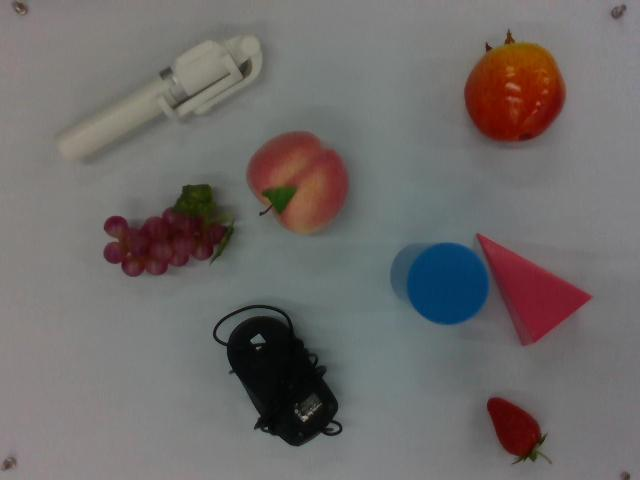cylinder: (390, 238, 494, 327)
grape: (100, 179, 233, 281)
mouse: (209, 301, 345, 448)
peach: (246, 127, 353, 240)
pomegranate: (464, 25, 569, 149)
pyramid: (473, 225, 602, 347)
selfiestick: (55, 27, 266, 167)
strawberry: (484, 390, 557, 468)
